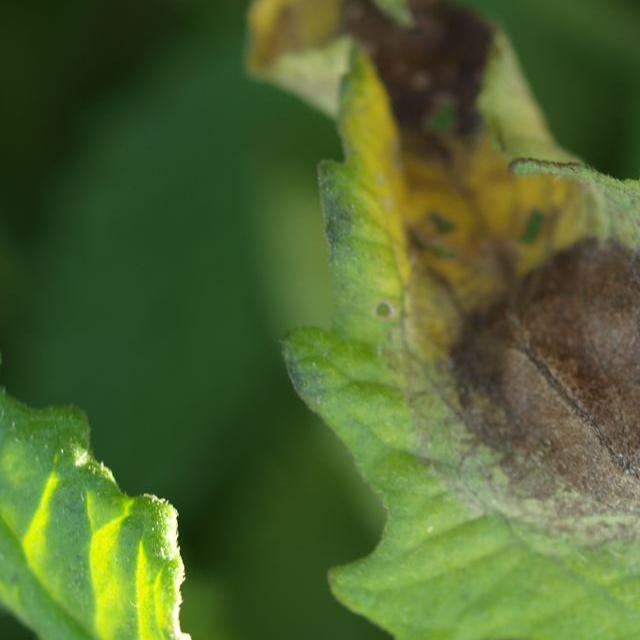Tomato leaf late blight: (241, 0, 640, 640)
